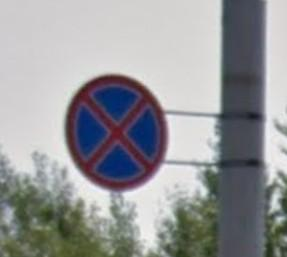No Parking: (66, 73, 169, 193)
